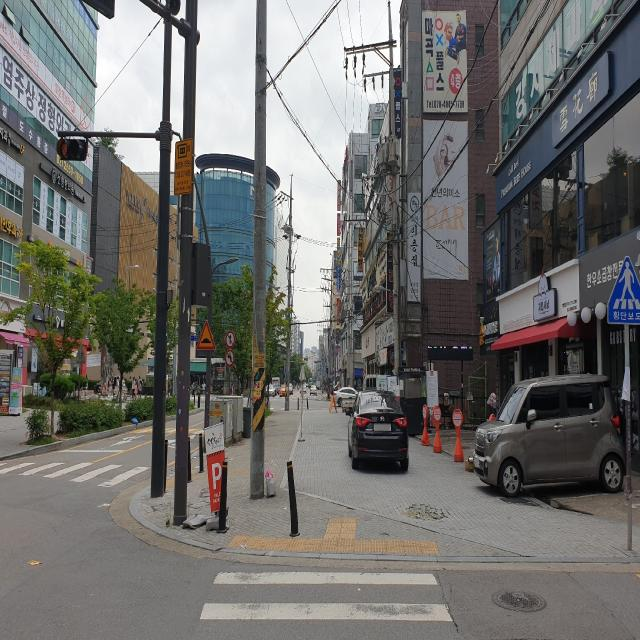횡단보도: (199, 570, 456, 625), (0, 457, 155, 492)
